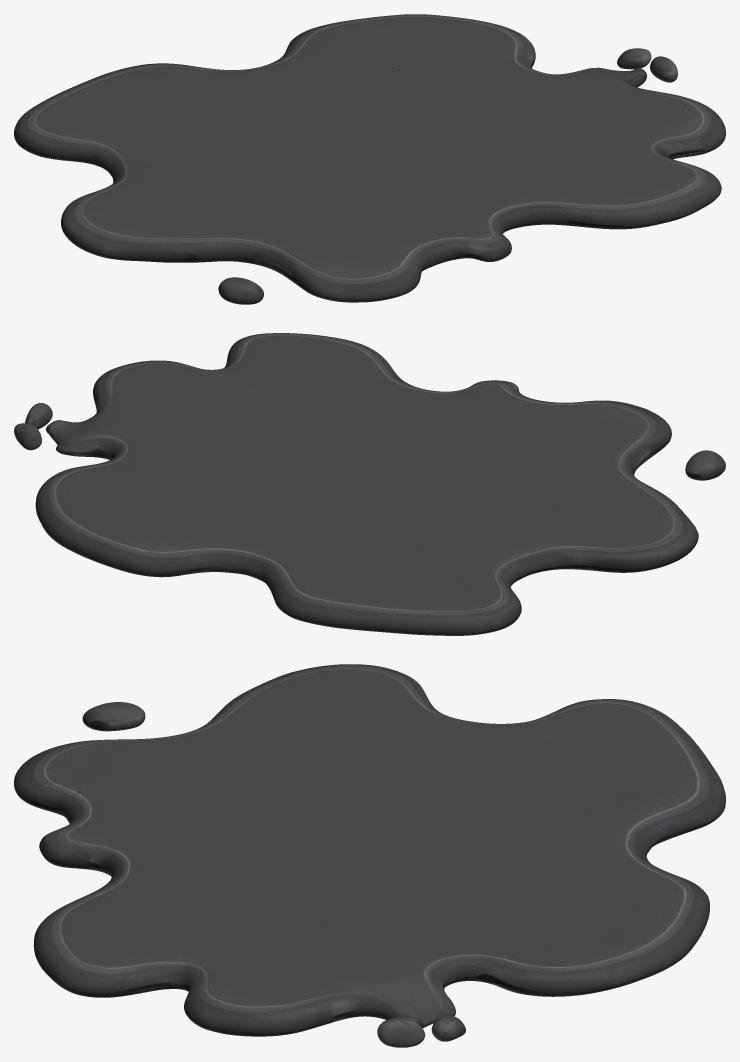
The model's file is Meshy_AI_Ink_Spill_0716205221_texture.fbx.
3 renders of one model, top to bottom at view 1: azimuth 30°, elevation 25°; view 2: azimuth 150°, elevation 25°; view 3: azimuth 270°, elevation 25°, orthographic. The views are drawn at different scales.
Visible parts, largest first — view 1: Mesh_0; view 2: Mesh_0; view 3: Mesh_0.
Part boxes in pixels (x1,y1,x2,y2): Mesh_0: (14, 14, 725, 304); Mesh_0: (14, 333, 725, 635); Mesh_0: (14, 664, 725, 1047).
Bounding box in the file's own units: 200 × 6.83 × 164.
Materials: 1 (1 with a texture image).
